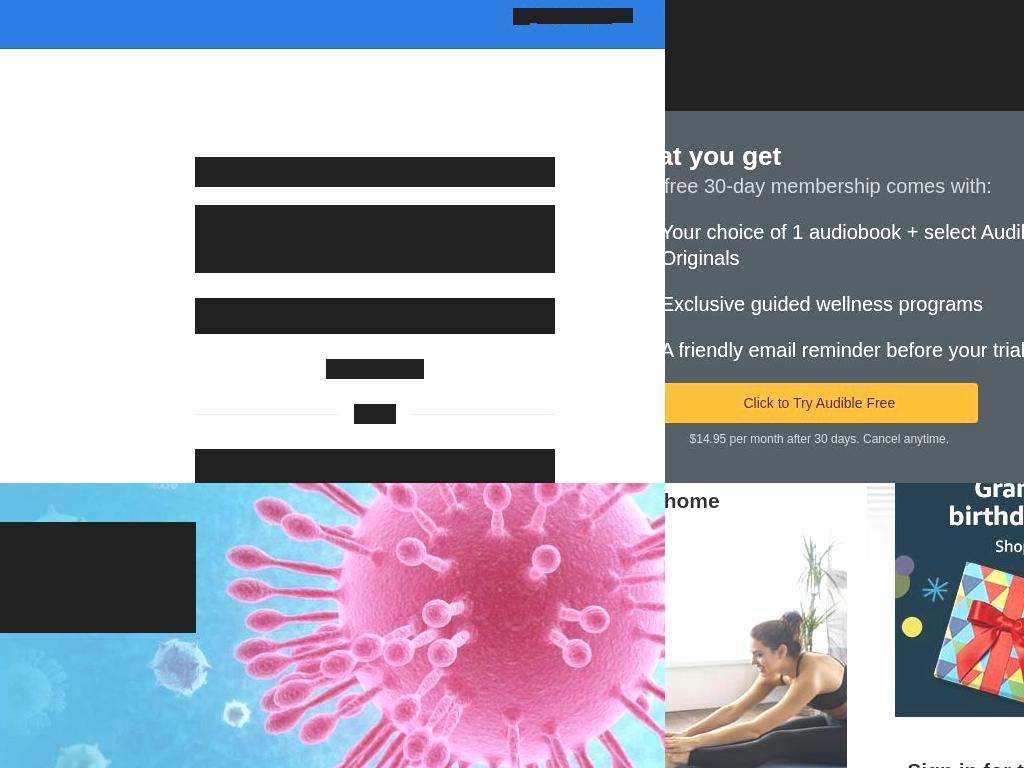button: (665, 524, 848, 768), (195, 298, 555, 334), (665, 383, 978, 423), (195, 449, 555, 483), (326, 359, 424, 379), (513, 8, 633, 23)
field: (195, 233, 555, 273)
heading: (0, 522, 196, 633), (665, 219, 1024, 271), (665, 139, 1024, 173), (195, 157, 555, 187), (665, 291, 1024, 317), (665, 337, 1024, 363), (665, 487, 848, 514)
iframe: (894, 483, 1024, 717)
image: (665, 111, 1024, 481), (665, 524, 848, 768), (665, 0, 1024, 111), (213, 460, 231, 478), (513, 8, 530, 25)
text: (676, 383, 962, 423), (195, 205, 555, 233), (665, 175, 992, 197), (689, 432, 949, 446), (319, 459, 440, 479), (537, 8, 612, 24), (354, 404, 396, 424)
